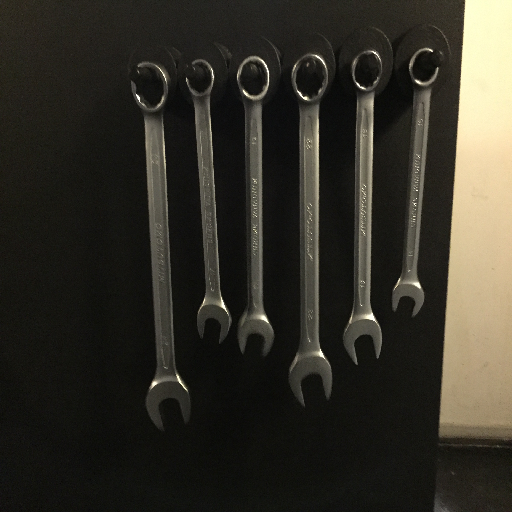bottom: (284, 352, 337, 413), (141, 378, 196, 435), (340, 317, 387, 371), (234, 315, 278, 359), (385, 274, 425, 319), (191, 301, 233, 343)
top: (128, 60, 173, 113), (289, 52, 332, 104), (405, 44, 445, 88), (234, 53, 270, 100), (347, 49, 385, 93), (181, 58, 217, 97)
